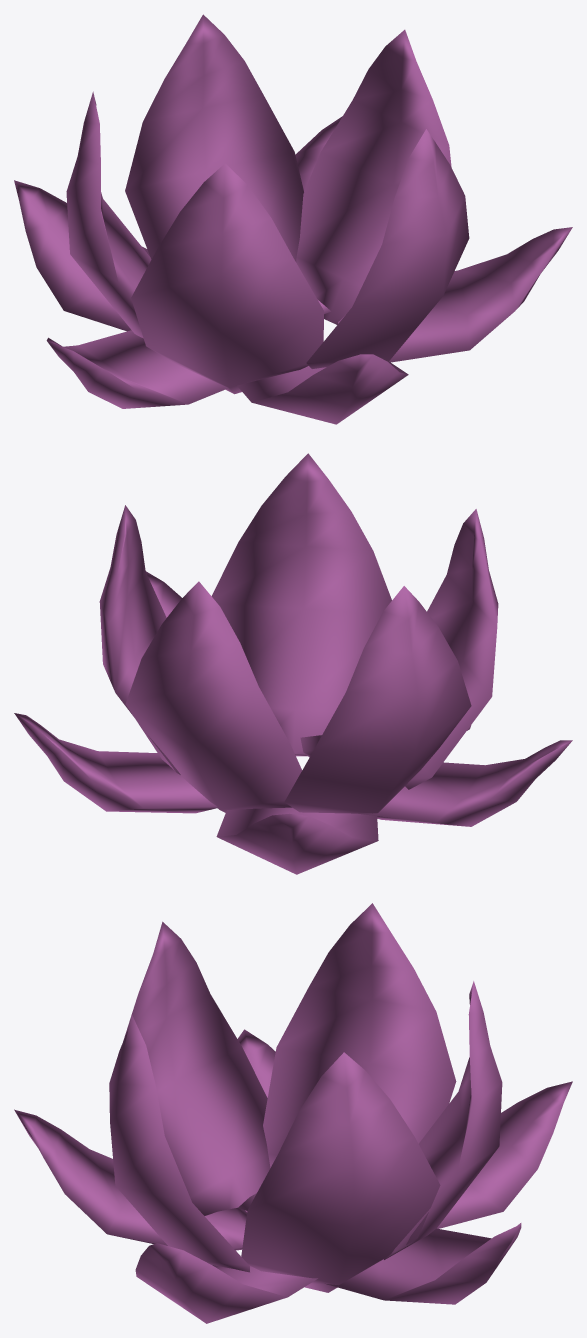
Rendered from lotus.fbx.
3 renders of one model, top to bottom at view 1: azimuth 30°, elevation 25°; view 2: azimuth 150°, elevation 25°; view 3: azimuth 270°, elevation 25°, orthographic. The views are drawn at different scales.
Visible parts, largest first — view 1: pPyramid11; view 2: pPyramid11; view 3: pPyramid11.
Boxes of the visible parts, bbox=[...] form: pPyramid11: bbox=[14, 14, 572, 424]; pPyramid11: bbox=[14, 453, 572, 874]; pPyramid11: bbox=[14, 903, 572, 1323].
Size of the model in its own units: 5.24 by 2.94 by 5.14.
